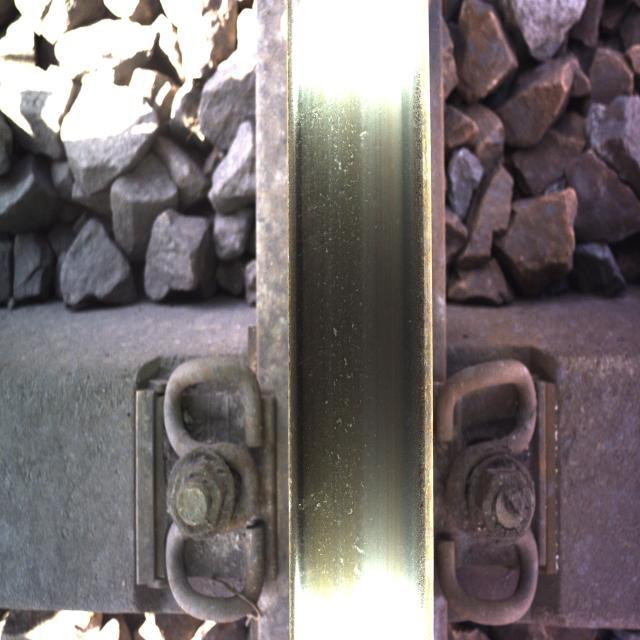break: (296, 36, 419, 605)
